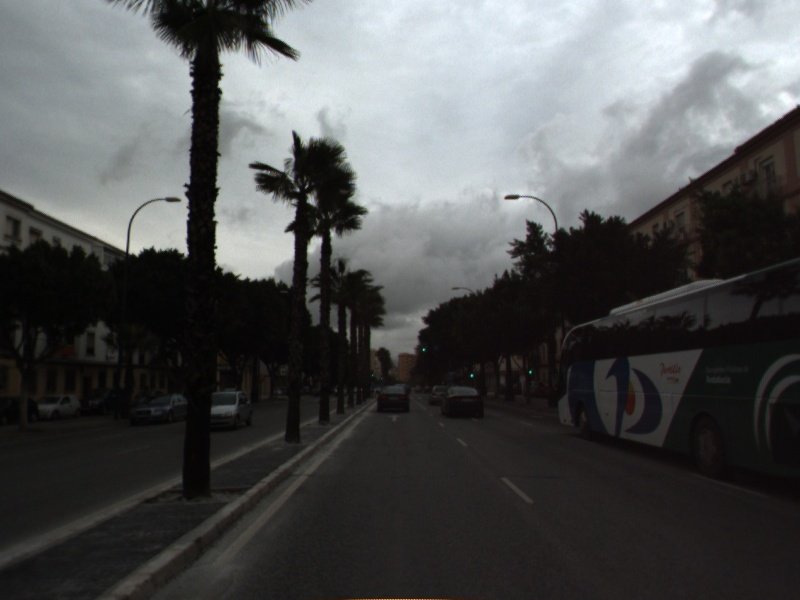STRAIGHT: (385, 412, 404, 424)
